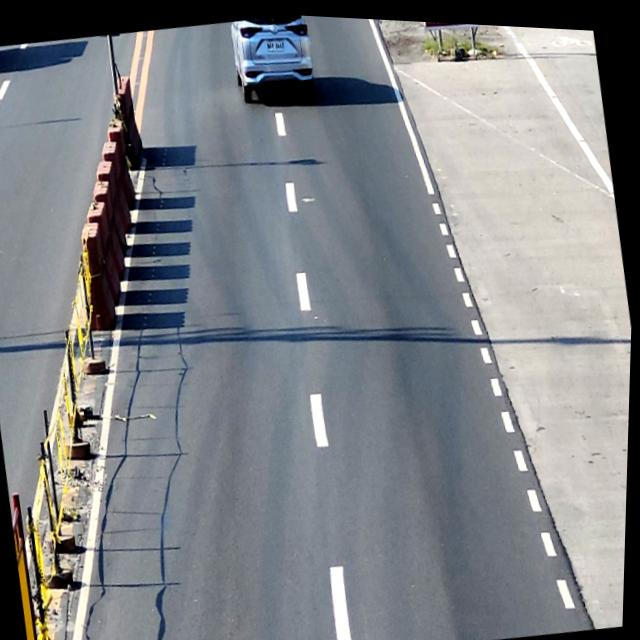Car: (227, 9, 320, 105)
License-Plate: (267, 35, 286, 51)
